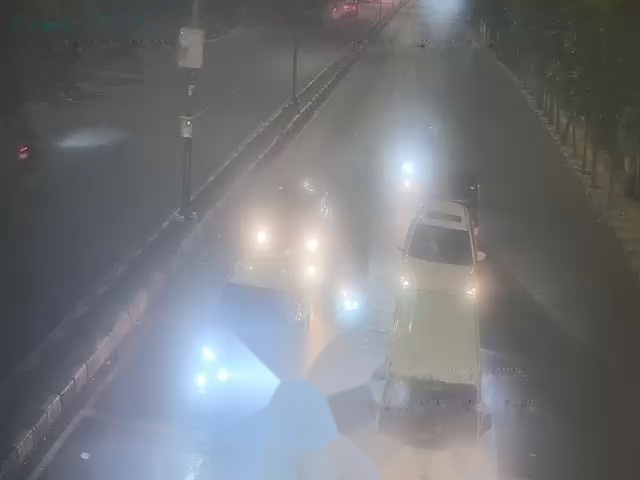Mobil: (379, 317, 479, 480), (203, 253, 301, 408), (397, 197, 480, 311), (246, 165, 333, 265), (398, 119, 437, 186)
Motor: (338, 239, 371, 321)
